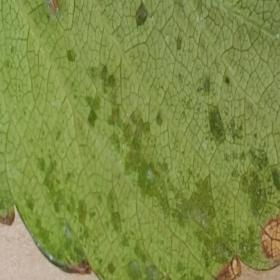Angular Leafspot: (0, 0, 279, 279)
